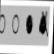correct: (25, 14, 34, 37)
not correct: (38, 9, 50, 40)
